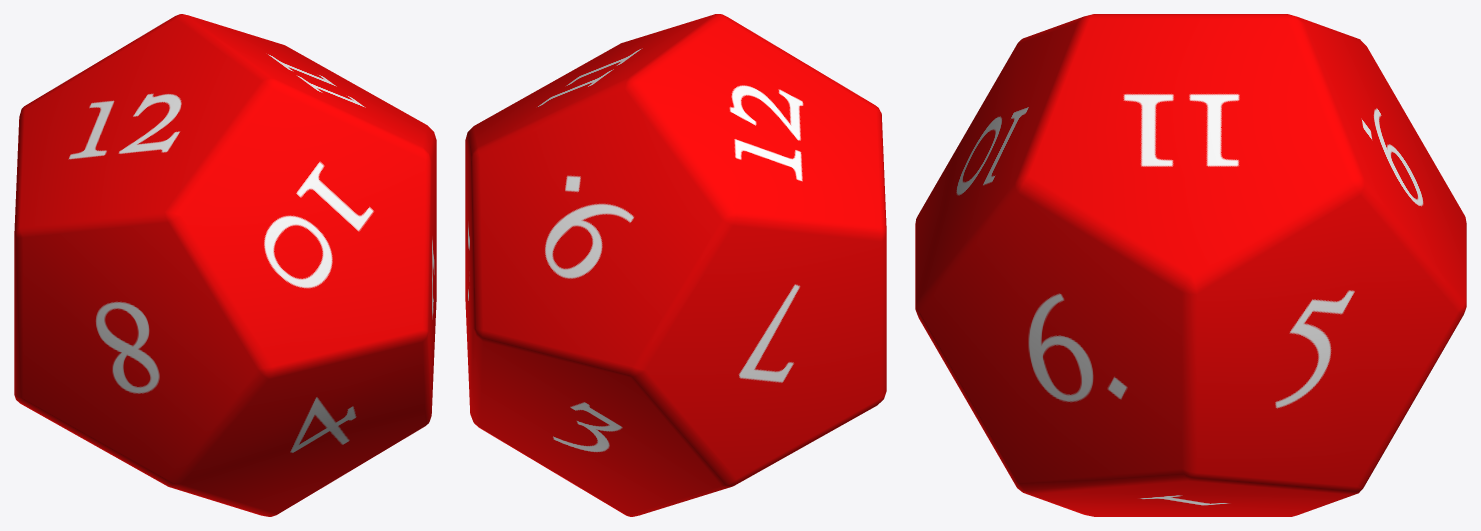
3 renders of one model, left to right at view 1: azimuth 30°, elevation 25°; view 2: azimuth 150°, elevation 25°; view 3: azimuth 270°, elevation 25°, orthographic. The views are drawn at different scales.
Parts seen in each view (by area): view 1: D12; view 2: D12; view 3: D12.
Part boxes in pixels (box(x1,y1,x2,y2)): D12: box(14, 14, 436, 516); D12: box(465, 14, 886, 516); D12: box(915, 14, 1466, 516).
Size of the model in its own units: 0.619 by 0.619 by 0.619.
1 material, 1 textured.
